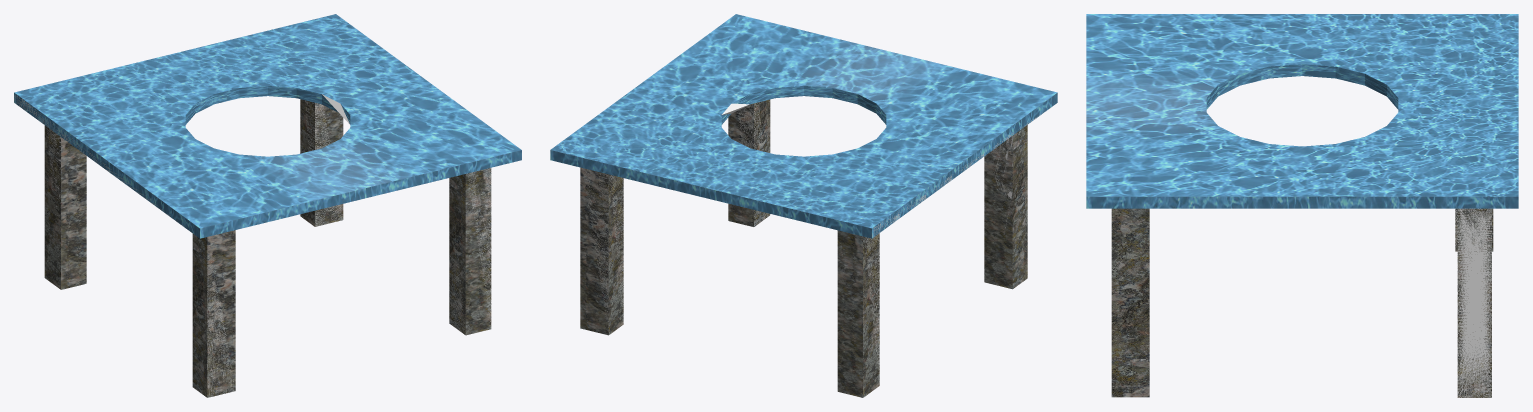
3 renders of one model, left to right at view 1: azimuth 30°, elevation 25°; view 2: azimuth 150°, elevation 25°; view 3: azimuth 270°, elevation 25°, orthographic. The views are drawn at different scales.
Parts seen in each view (by area): view 1: Table_0; view 2: Table_0; view 3: Table_0.
Boxes of the visible parts, box(x1,y1,x2,y2) form: Table_0: box(14, 14, 521, 397); Table_0: box(550, 14, 1057, 397); Table_0: box(1086, 14, 1518, 397).
Bounding box in the file's own units: 1 × 0.5414 × 1.
